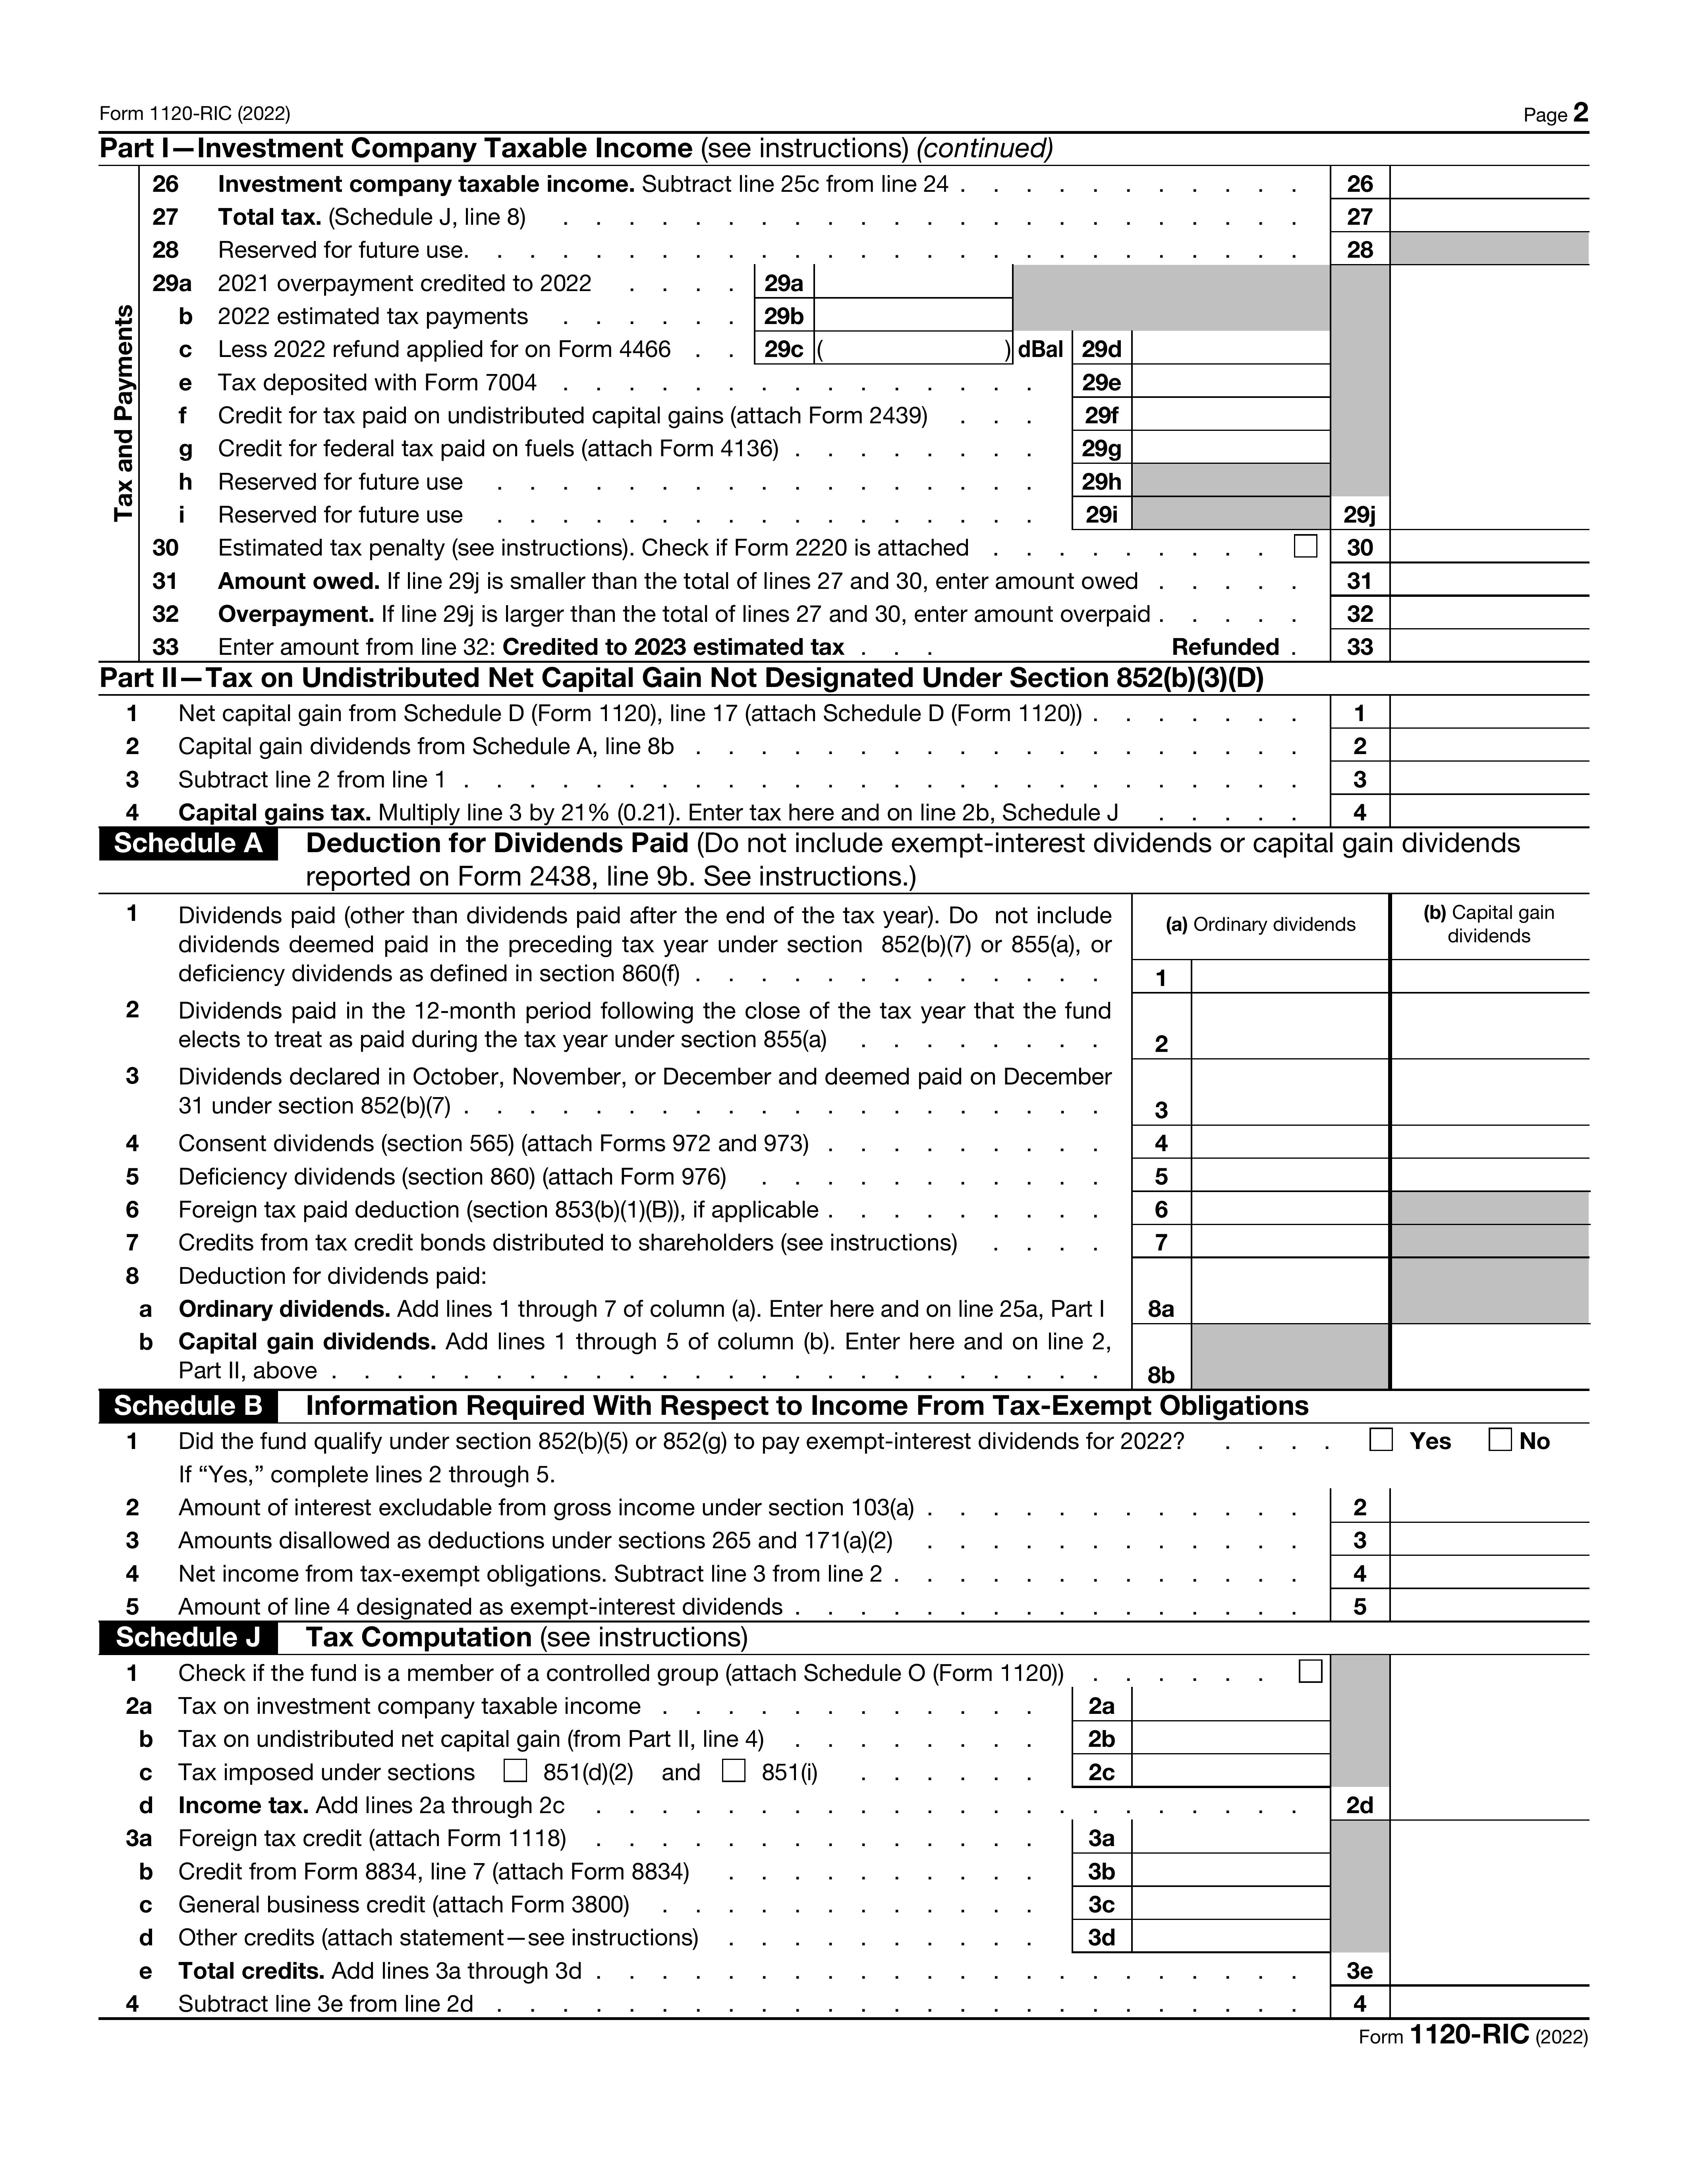table: (105, 892, 1619, 1395), (90, 165, 1615, 661), (98, 1654, 1617, 2019), (103, 1418, 1617, 1627), (98, 693, 1619, 823)
